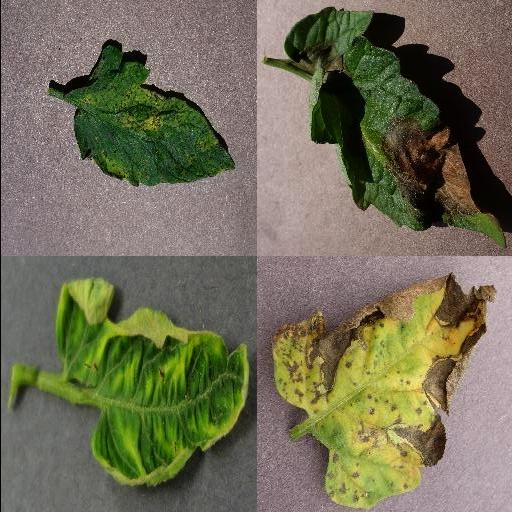Late Blight: (282, 6, 504, 248)
Septoria: (270, 275, 494, 511), (71, 44, 235, 188)
Yellow Leaf Curl Virus: (54, 278, 252, 487)
